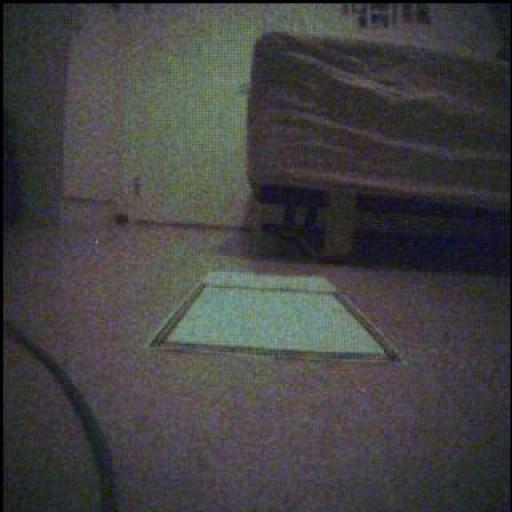pad: (150, 273, 399, 363)
